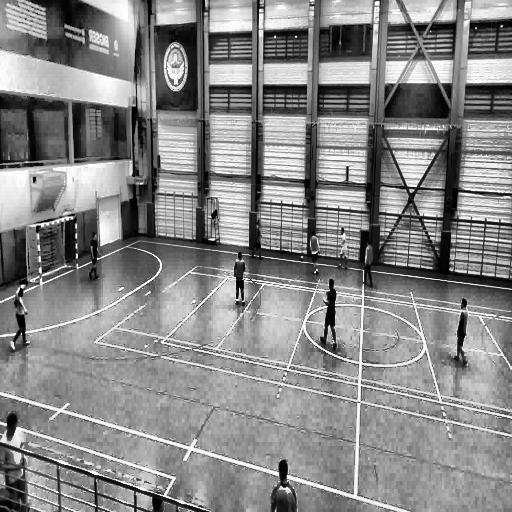ball: (298, 253, 304, 260)
player: (0, 412, 27, 508), (268, 458, 297, 512), (12, 279, 32, 350), (319, 277, 338, 348), (451, 294, 469, 364), (231, 249, 247, 307), (89, 233, 100, 281), (364, 238, 374, 288), (338, 227, 349, 270), (310, 230, 320, 275), (251, 220, 262, 258)
